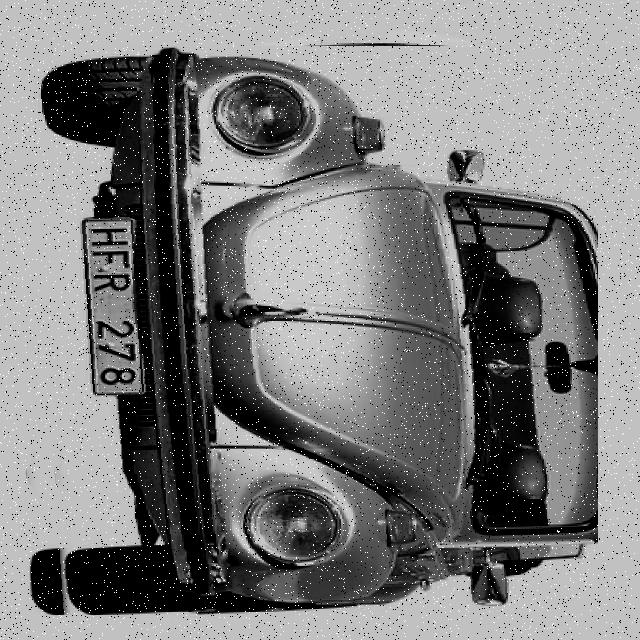car: (27, 47, 599, 621)
